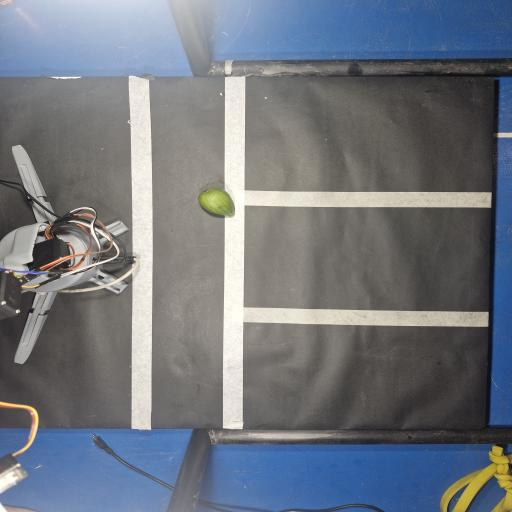higo: (198, 188, 235, 216)
